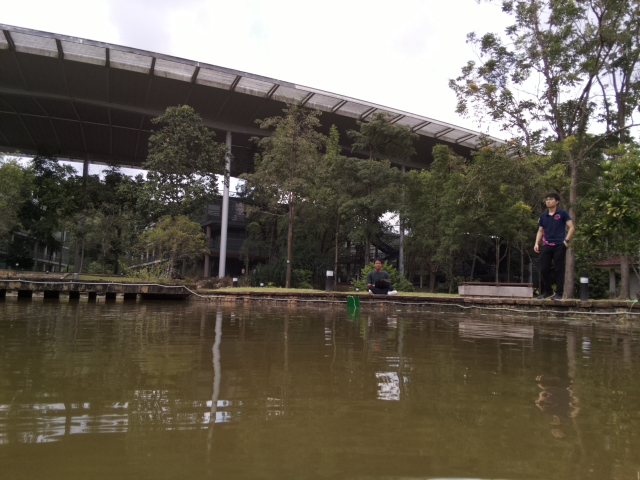obstacle: (345, 295, 360, 310)
